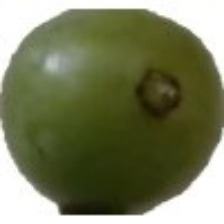grapes: (19, 26, 199, 192)
